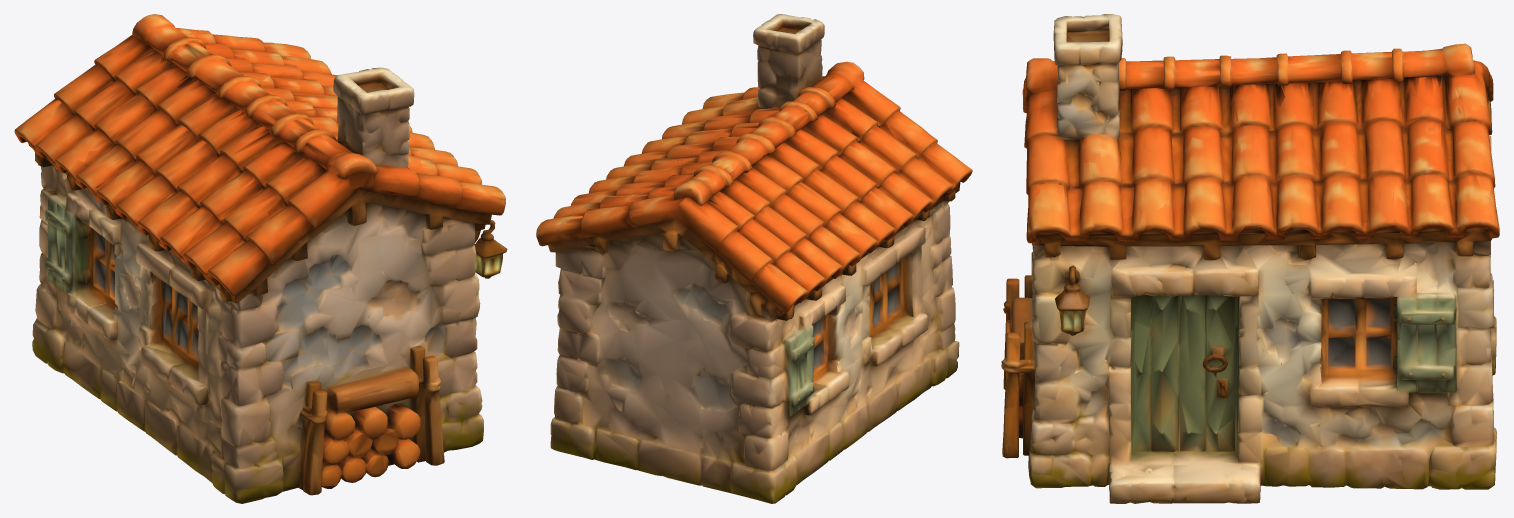
The model's file is Piece16.fbx.
The picture shows the model from 3 angles, left to right: view 1: azimuth 30°, elevation 25°; view 2: azimuth 150°, elevation 25°; view 3: azimuth 270°, elevation 25°; orthographic projection. The views are drawn at different scales.
Visible parts, largest first — view 1: Piece16; view 2: Piece16; view 3: Piece16.
Boxes of the visible parts, left/top/right/bottom form: Piece16: left=14, top=14, right=507, bottom=503; Piece16: left=536, top=14, right=972, bottom=503; Piece16: left=1001, top=14, right=1499, bottom=503.
Size of the model in its own units: 79.88 by 91.69 by 100.
1 material, 1 textured.
